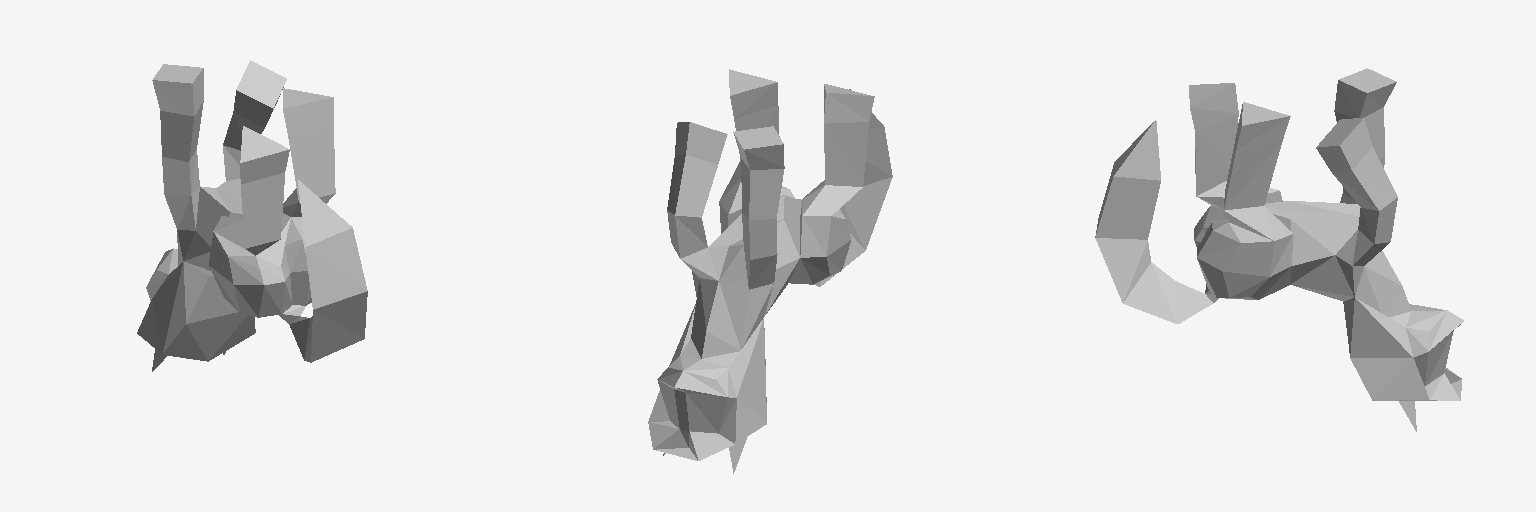
The model's file is PONY_000019.obj.
The picture shows the model from 3 angles: view 1: azimuth 30°, elevation 25°; view 2: azimuth 150°, elevation 25°; view 3: azimuth 270°, elevation 25°; orthographic projection.
Parts seen in each view (by area): view 1: pony; view 2: pony; view 3: pony.
Part boxes in pixels (x1,y1,x2,y2): pony: (137,60,367,371); pony: (648,69,892,473); pony: (1095,68,1463,431).
Size of the model in its own units: 3.57 by 8.89 by 9.33.